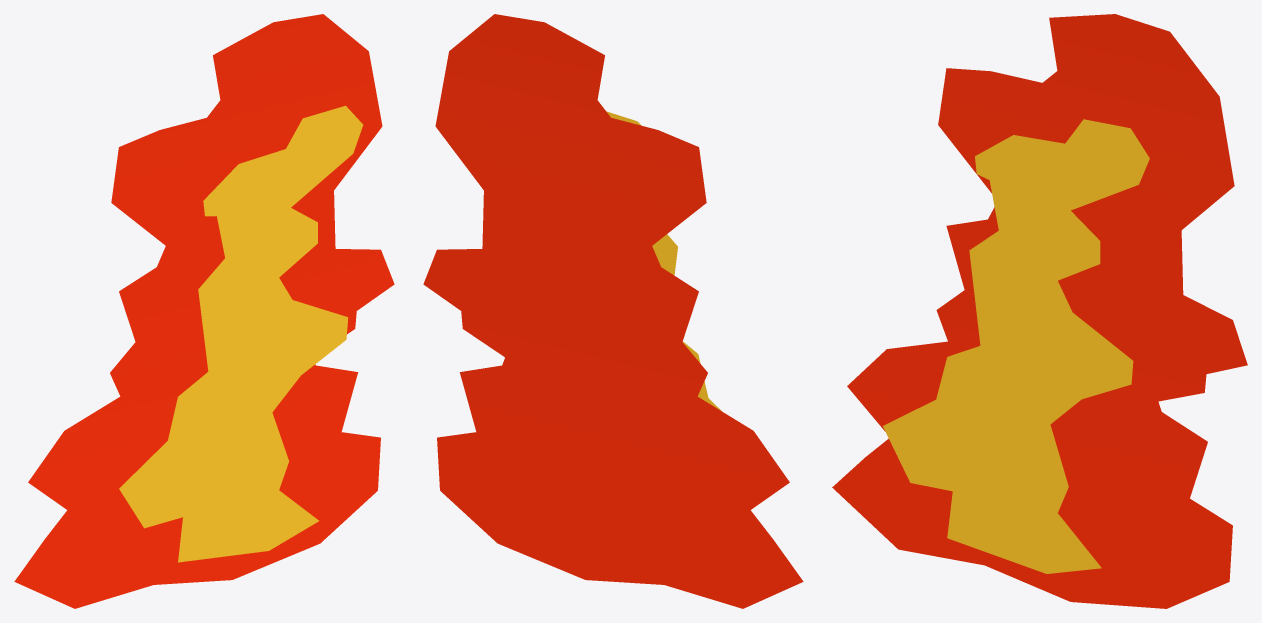
The model's file is fogonazo-002.gltf.
3 renders of one model, left to right at view 1: azimuth 30°, elevation 25°; view 2: azimuth 150°, elevation 25°; view 3: azimuth 330°, elevation 25°, orthographic. The views are drawn at different scales.
Visible parts, largest first — view 1: Caldero_Fogonazo-f.002; view 2: Caldero_Fogonazo-f.002; view 3: Caldero_Fogonazo-f.002.
Boxes of the visible parts, x1,y1,x2,y2 form: Caldero_Fogonazo-f.002: [14, 14, 394, 608]; Caldero_Fogonazo-f.002: [423, 14, 803, 608]; Caldero_Fogonazo-f.002: [832, 14, 1247, 608].
Bounding box in the file's own units: 0.2258 × 0.3108 × 0.03.
Materials: 1 (1 with a texture image).
